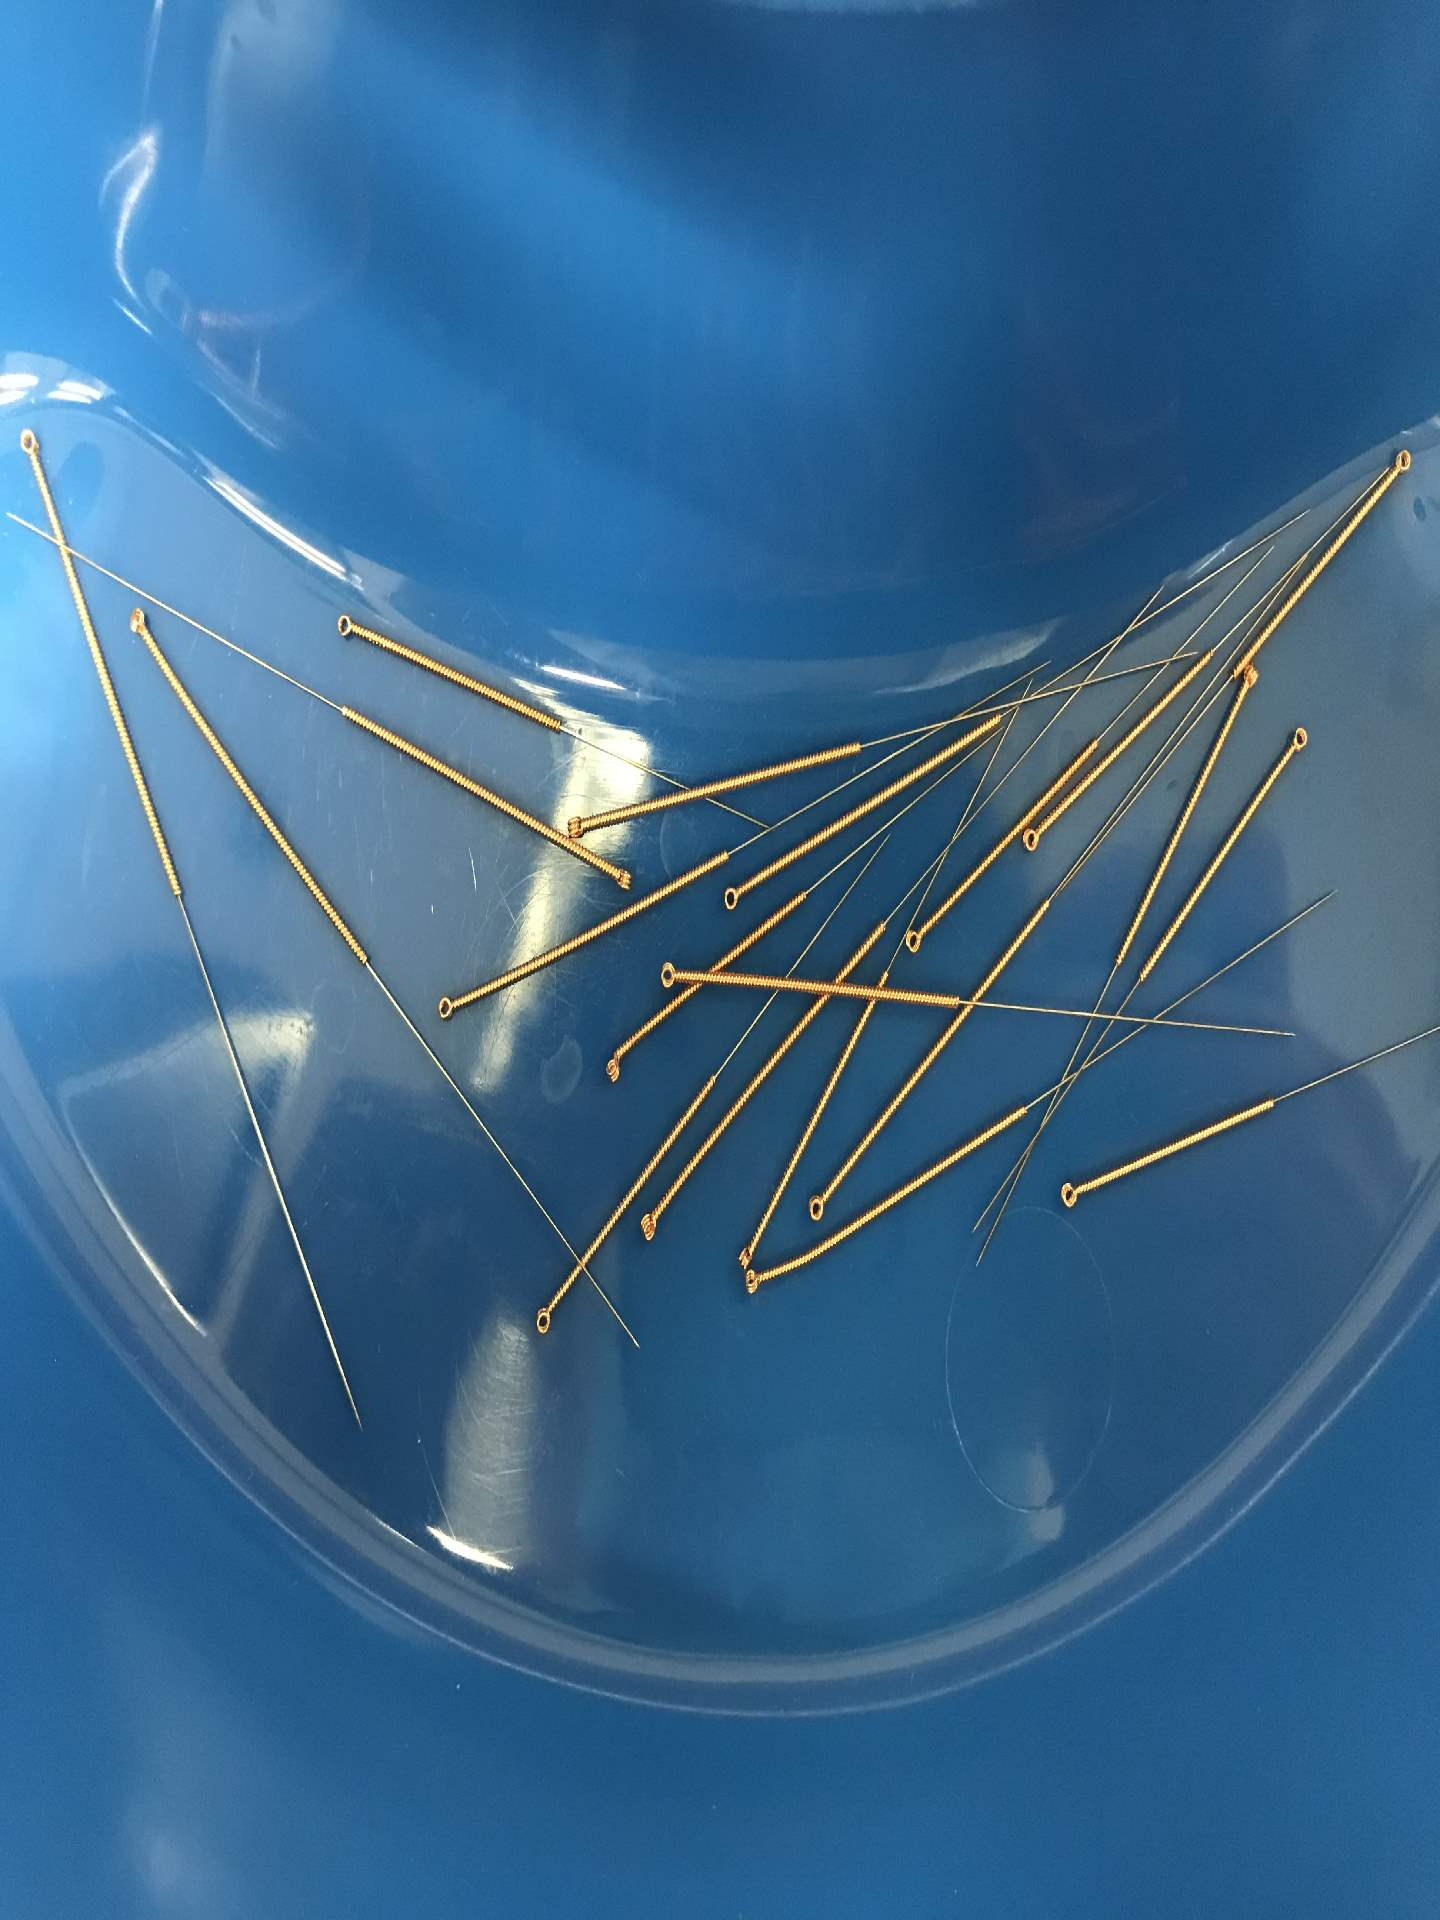needle: (8, 420, 51, 472), (1381, 437, 1417, 491), (797, 1181, 836, 1229), (737, 1262, 781, 1305), (1280, 717, 1316, 766), (1051, 1172, 1091, 1217), (523, 1299, 563, 1342), (119, 599, 156, 646), (327, 605, 366, 647), (712, 874, 750, 918), (898, 915, 933, 962), (647, 952, 687, 993), (430, 986, 467, 1027), (632, 1203, 664, 1249), (597, 1046, 631, 1087), (566, 809, 604, 844), (602, 860, 638, 895), (1019, 821, 1050, 862), (731, 1237, 762, 1274), (1237, 661, 1263, 703)
